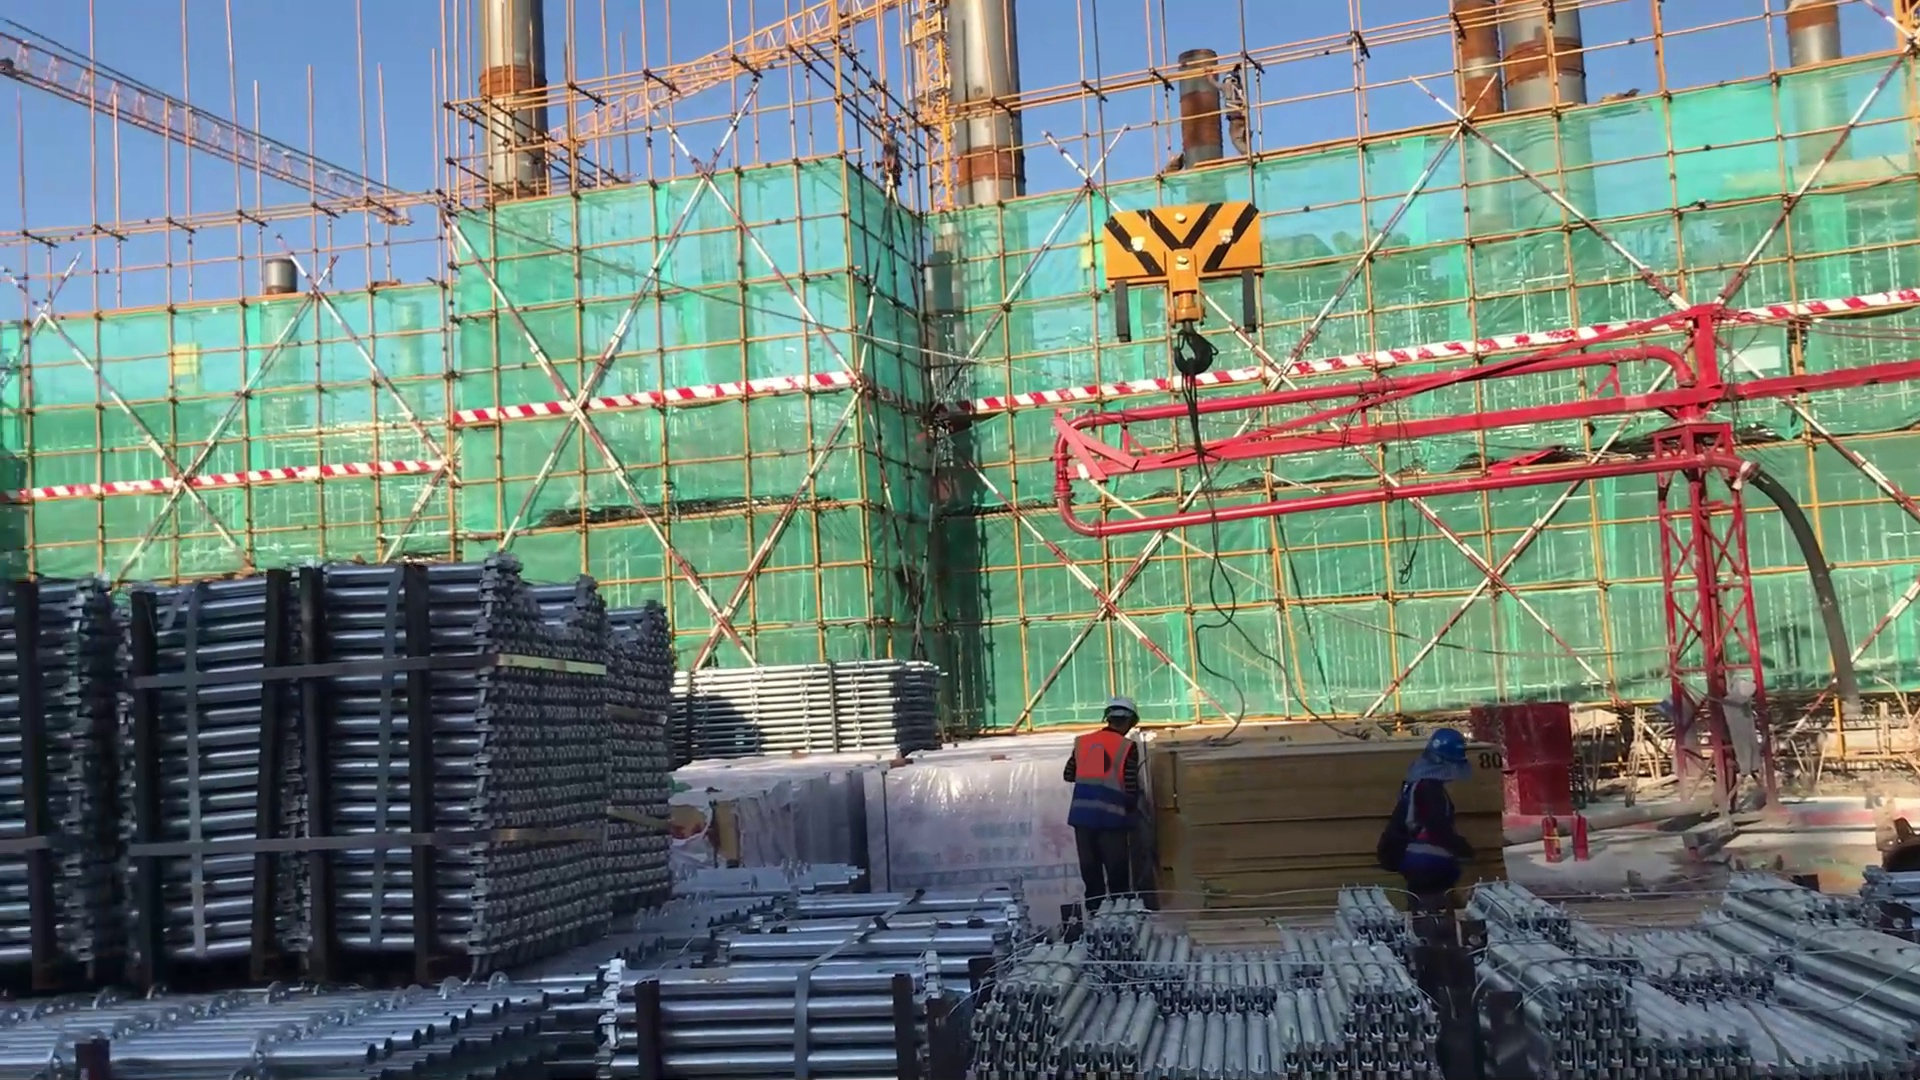board: (1152, 734, 1519, 947)
helmet: (1420, 726, 1475, 779), (1097, 697, 1141, 736)
hook: (1095, 198, 1295, 453)
person: (1063, 693, 1166, 932), (1380, 723, 1481, 923), (1214, 52, 1258, 175)
scaffold: (1, 564, 684, 969), (566, 845, 1026, 1080), (1470, 870, 1920, 1078), (981, 888, 1441, 1080), (8, 920, 563, 1080), (658, 655, 970, 762)
vest: (1392, 771, 1475, 884), (1066, 724, 1142, 843), (1219, 81, 1250, 128)
